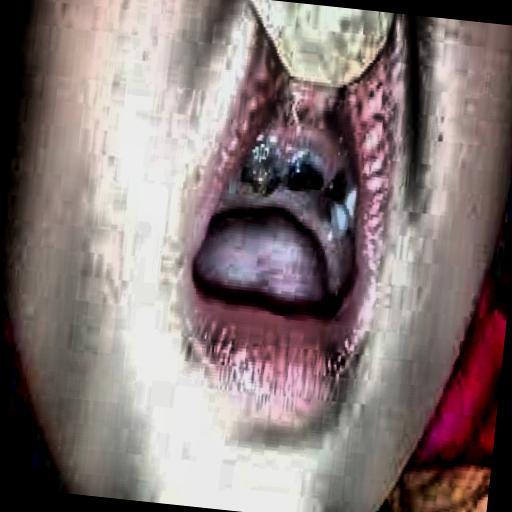Caries: (211, 110, 374, 257)
